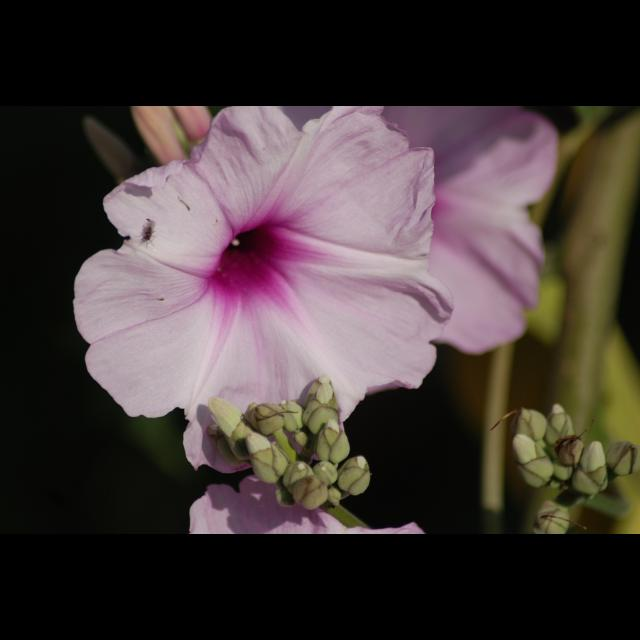Flower: (81, 122, 487, 492), (286, 107, 560, 356), (190, 472, 422, 534)
